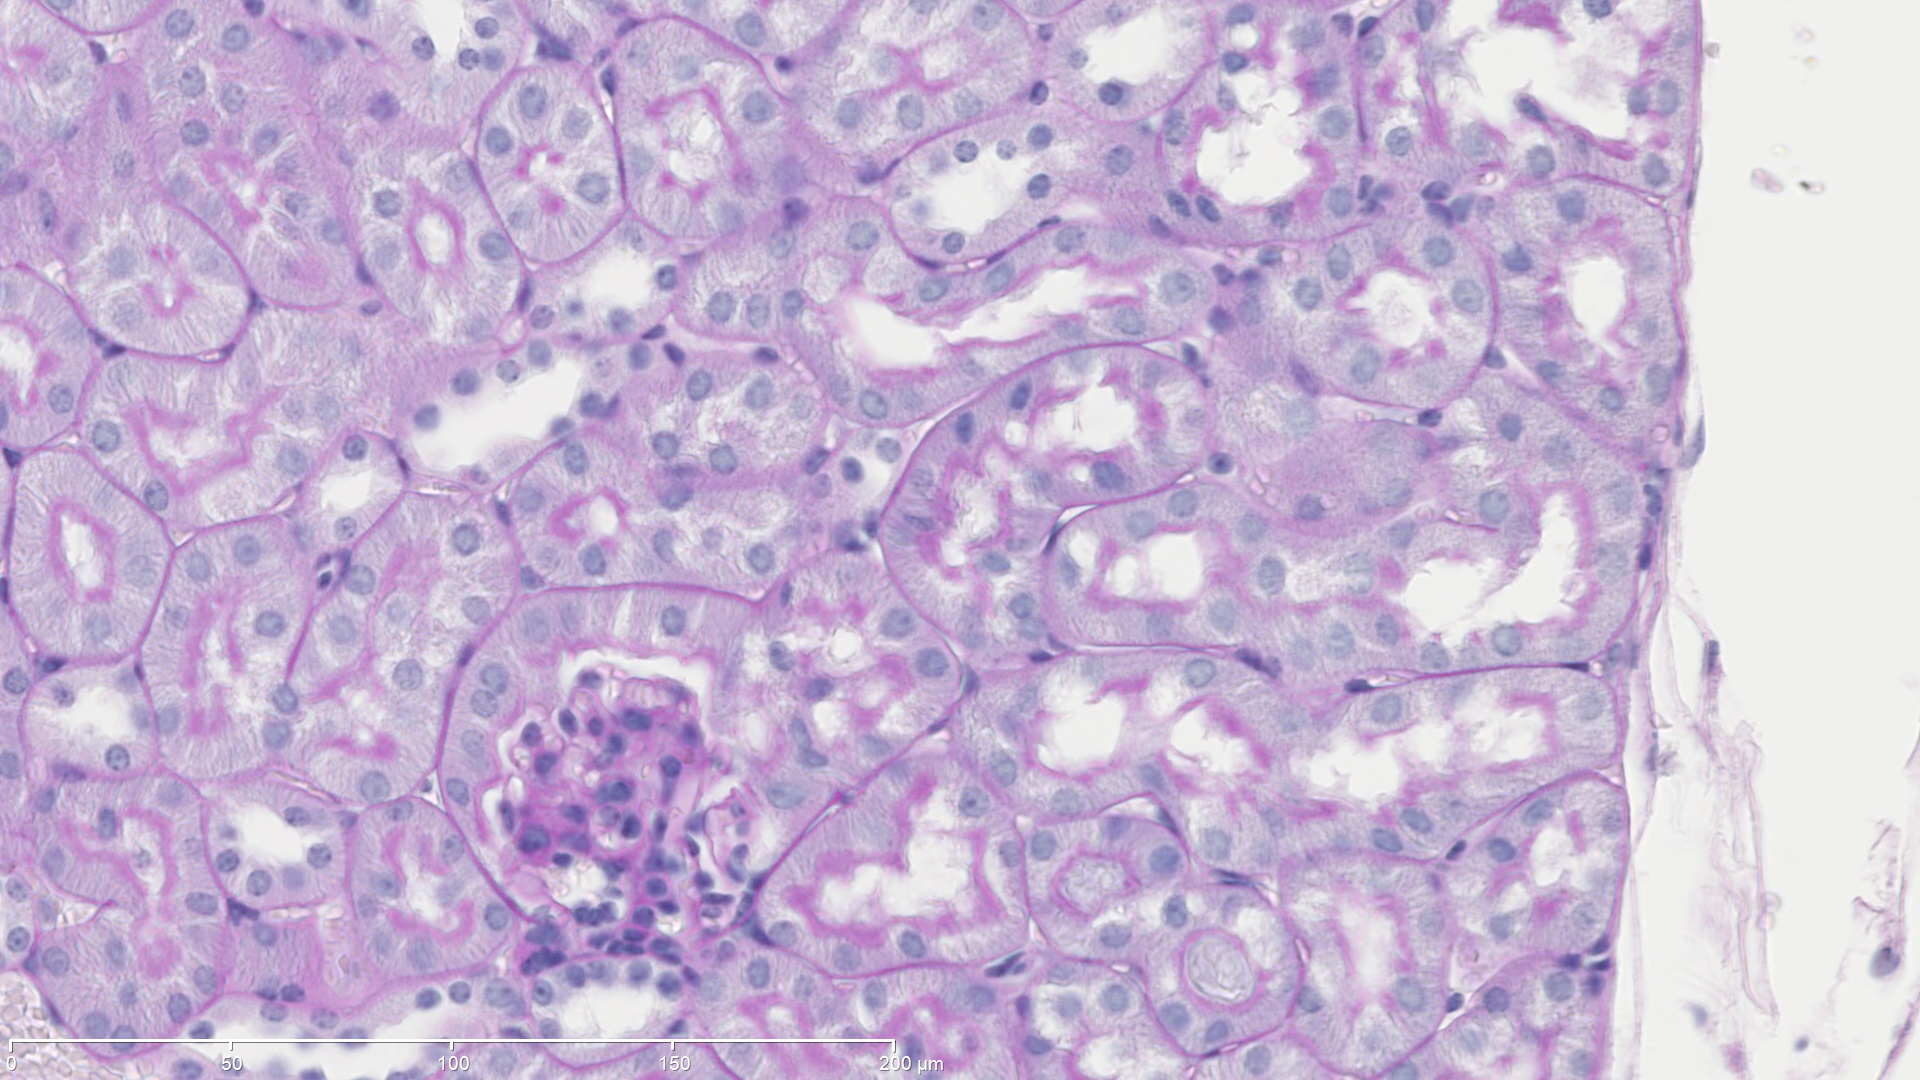Glomeruli: (458, 645, 785, 982)
